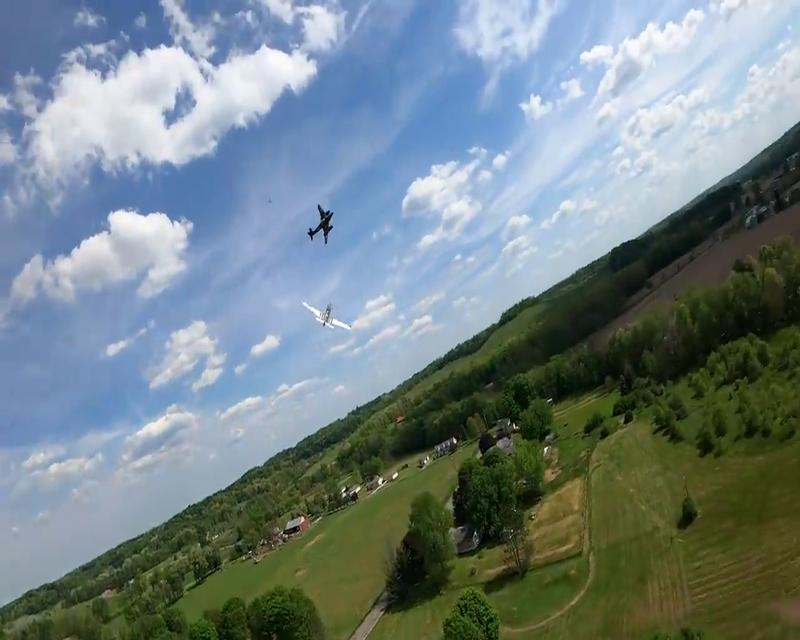UAV: (302, 300, 352, 332), (308, 204, 335, 245)
